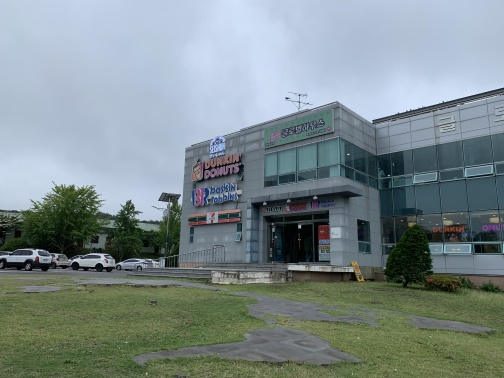Global House: (174, 91, 503, 286)
